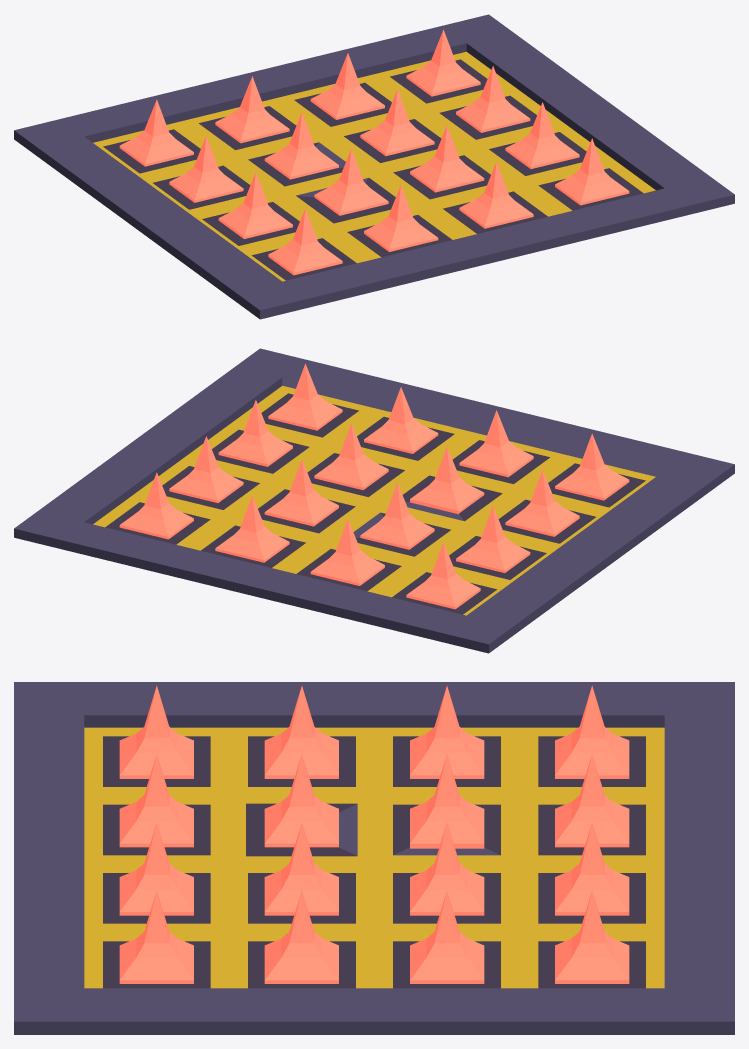
File: Spikes.fbx
3 views of the same model, one above another, from view 1: azimuth 30°, elevation 25°; view 2: azimuth 150°, elevation 25°; view 3: azimuth 270°, elevation 25° (orthographic). The views are drawn at different scales.
Visible parts, largest first — view 1: Cube.065, Cube.063; view 2: Cube.065, Cube.063; view 3: Cube.065, Cube.063.
Part boxes in pixels (x1,y1,x2,y2): Cube.065: [14, 14, 734, 319]; Cube.063: [119, 29, 629, 275]; Cube.065: [14, 348, 734, 653]; Cube.063: [119, 363, 629, 609]; Cube.065: [14, 682, 734, 1034]; Cube.063: [119, 685, 629, 983].
Size of the model in its own units: 1038 by 118 by 932.
